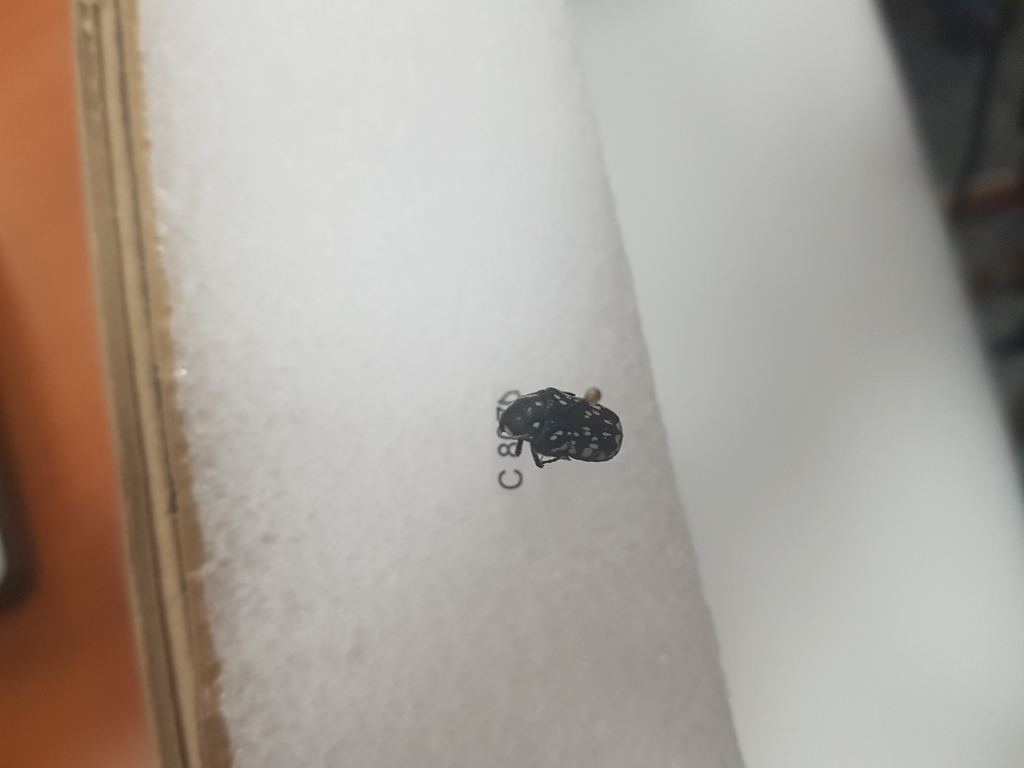Oxythyrea_albopicta: (495, 383, 632, 474)
